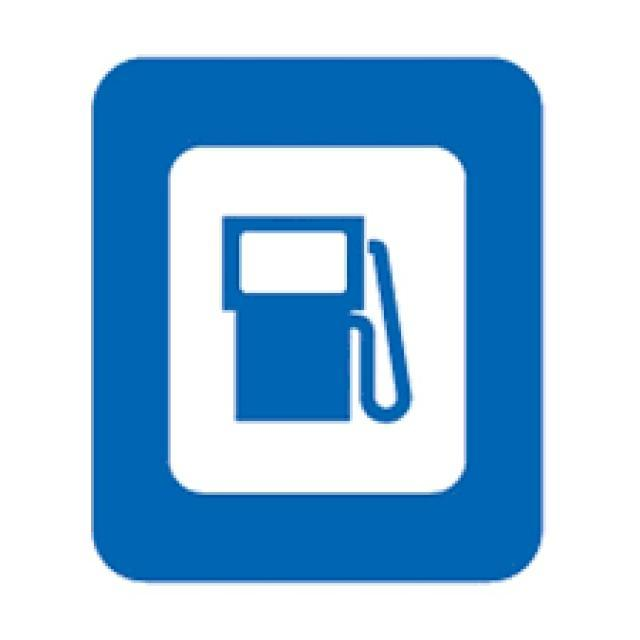petrol pump ahead: (89, 52, 543, 584)
